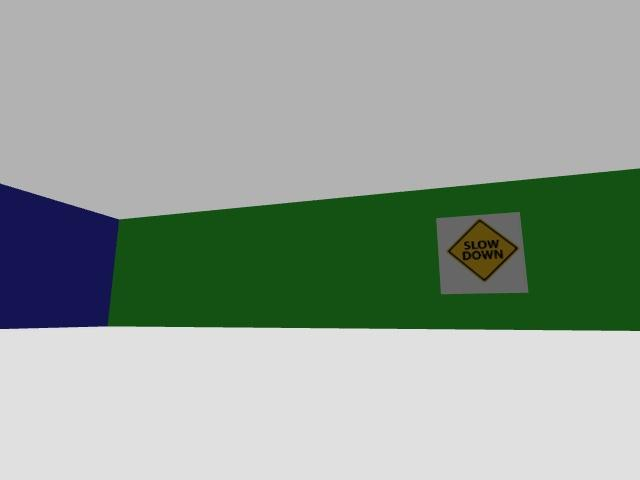slowsign: (438, 213, 527, 293)
